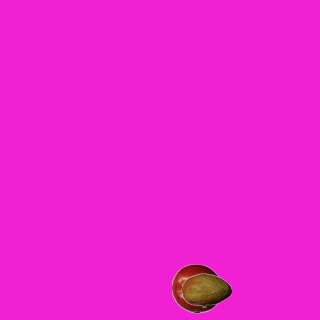Apple Braeburn: (171, 263, 221, 313)
Papaya: (181, 265, 231, 315)
